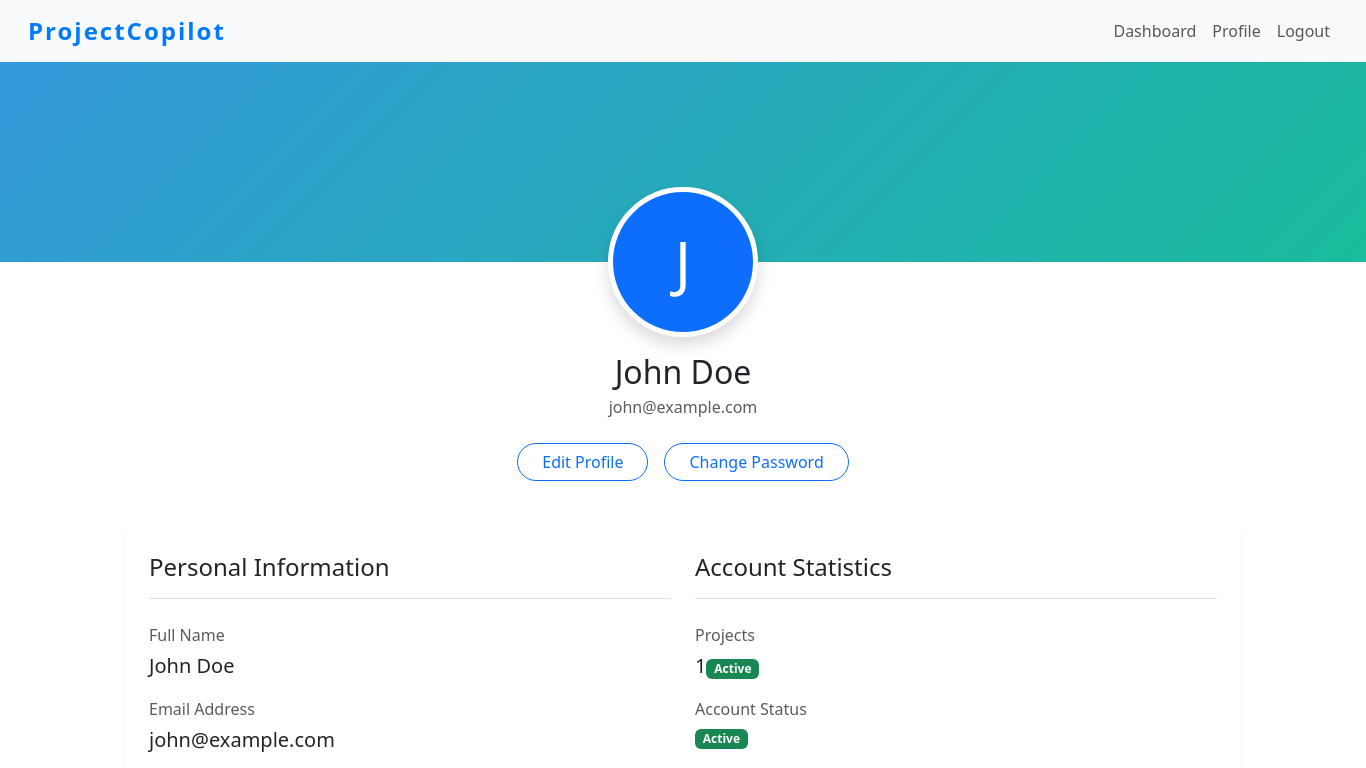
Scenario: enters edit mode when Edit Profile is clicked
Click the button "Edit Profile".
click(583, 462)  # box [517,443,648,481]
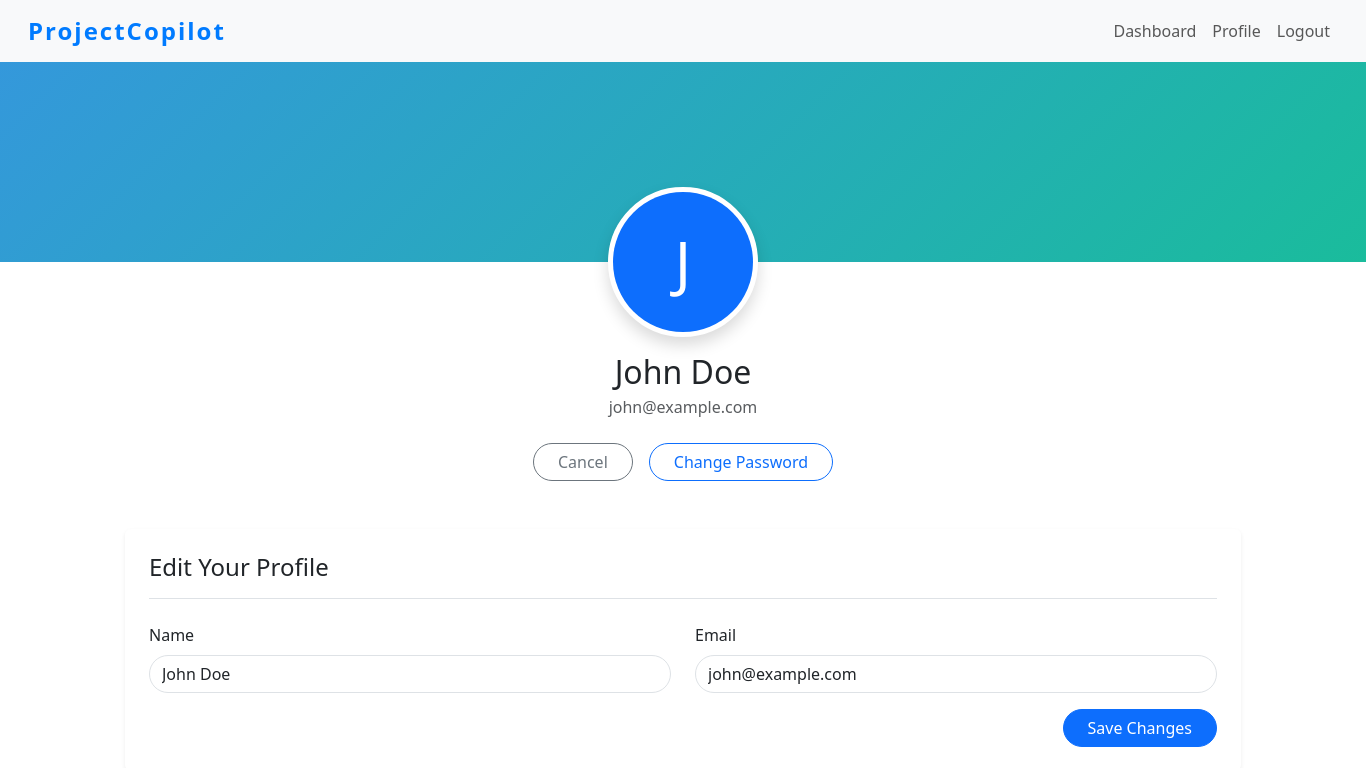
Result: the heading "Edit Your Profile" is shown at [149,553,1217,599]
Result: the button "Cancel" is shown at [533,443,633,481]
Result: the button "Save Changes" is shown at [1062,709,1217,747]
